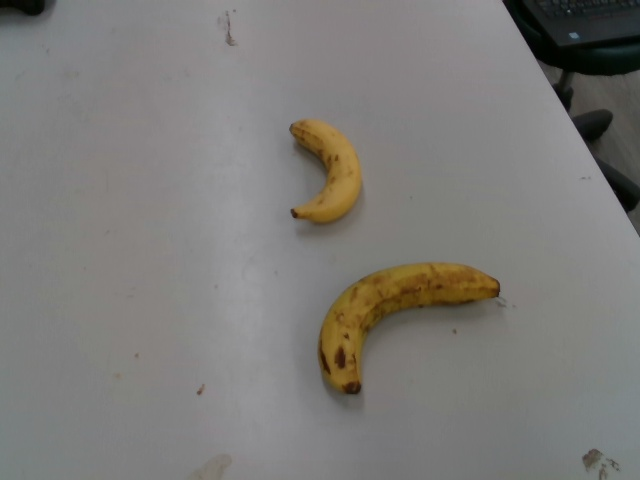banana: (316, 262, 501, 397), (287, 117, 366, 224)
